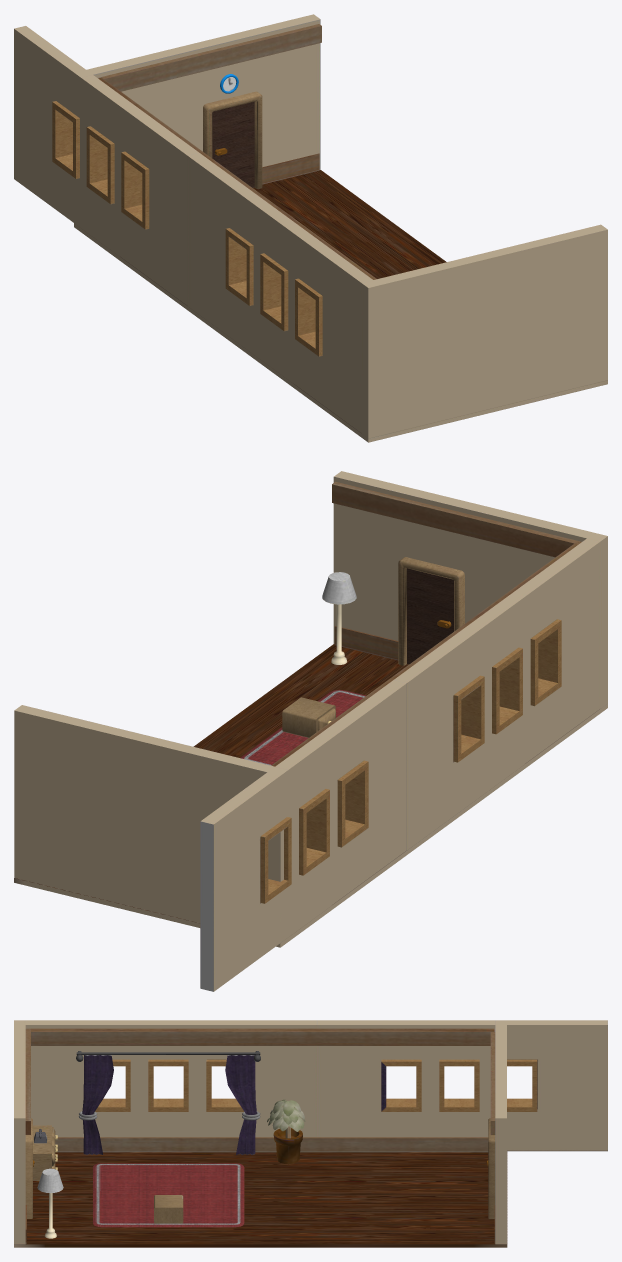
File: salita.fbx
3 renders of one model, top to bottom at view 1: azimuth 30°, elevation 25°; view 2: azimuth 150°, elevation 25°; view 3: azimuth 270°, elevation 25°, orthographic. The views are drawn at different scales.
Parts seen in each view (by area): view 1: Cube.007, Cube.006, Cube.003, Cube.005, Cube.004, Cube.026, Cube.030, Cube.029, Cube.025, Cube.033; view 2: Cube.005, Cube.003, Cube.006, Cube.007, Cube.004, Cube.027, Cube.002, Cube.001, Cube.035, Cube.025, Cube.041, Cube.034 (+1 smaller); view 3: Cube.004, Cube.003, Cube.006, Cube.035, Cube.025, Cube.032, Cube.005, Cube.007, Cube.094, Cube.092, Cube.041, Cube.049 (+7 smaller).
Boxes of the visible parts, x1,y1,x2,y2 form: Cube.007: [361, 224, 607, 438]; Cube.006: [187, 153, 373, 433]; Cube.003: [14, 26, 198, 305]; Cube.005: [74, 14, 320, 222]; Cube.004: [74, 170, 607, 442]; Cube.026: [101, 24, 321, 91]; Cube.030: [212, 101, 254, 187]; Cube.029: [203, 91, 262, 189]; Cube.025: [98, 77, 376, 279]; Cube.033: [262, 153, 319, 184]; Cube.005: [14, 705, 288, 942]; Cube.003: [200, 680, 406, 991]; Cube.006: [394, 538, 600, 850]; Cube.007: [333, 471, 607, 708]; Cube.004: [14, 644, 607, 947]; Cube.027: [332, 481, 580, 557]; Cube.002: [407, 568, 453, 664]; Cube.001: [398, 557, 464, 665]; Cube.035: [240, 689, 365, 765]; Cube.025: [271, 541, 581, 766]; Cube.041: [282, 697, 335, 737]; Cube.034: [334, 626, 398, 660]; Cube.004: [14, 1151, 507, 1247]; Cube.003: [316, 1020, 607, 1151]; Cube.006: [25, 1020, 317, 1137]; Cube.035: [93, 1163, 244, 1227]; Cube.025: [31, 1028, 495, 1045]; Cube.032: [55, 1137, 488, 1152]; Cube.005: [495, 1020, 506, 1244]; Cube.007: [14, 1020, 25, 1244]; Cube.094: [225, 1055, 256, 1154]; Cube.092: [82, 1055, 113, 1154]; Cube.041: [154, 1195, 183, 1223]; Cube.049: [273, 1128, 302, 1164].
Bounding box in the file's own units: 6098 × 3700 × 15373.
